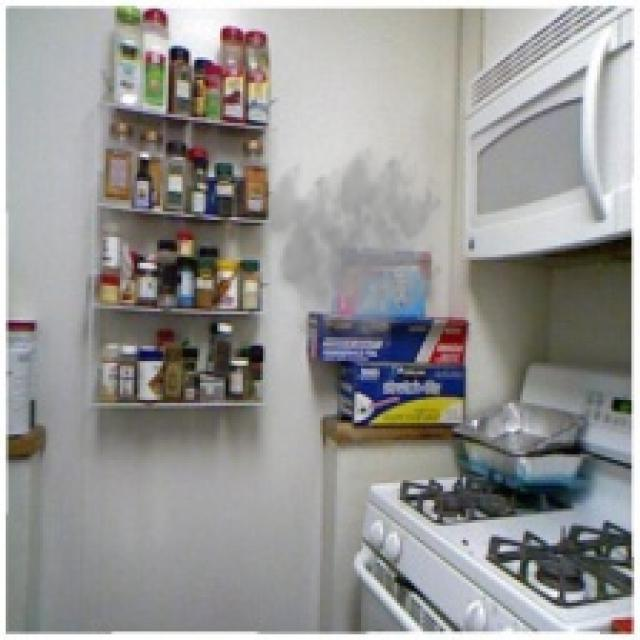Smoke: (248, 142, 452, 358)
